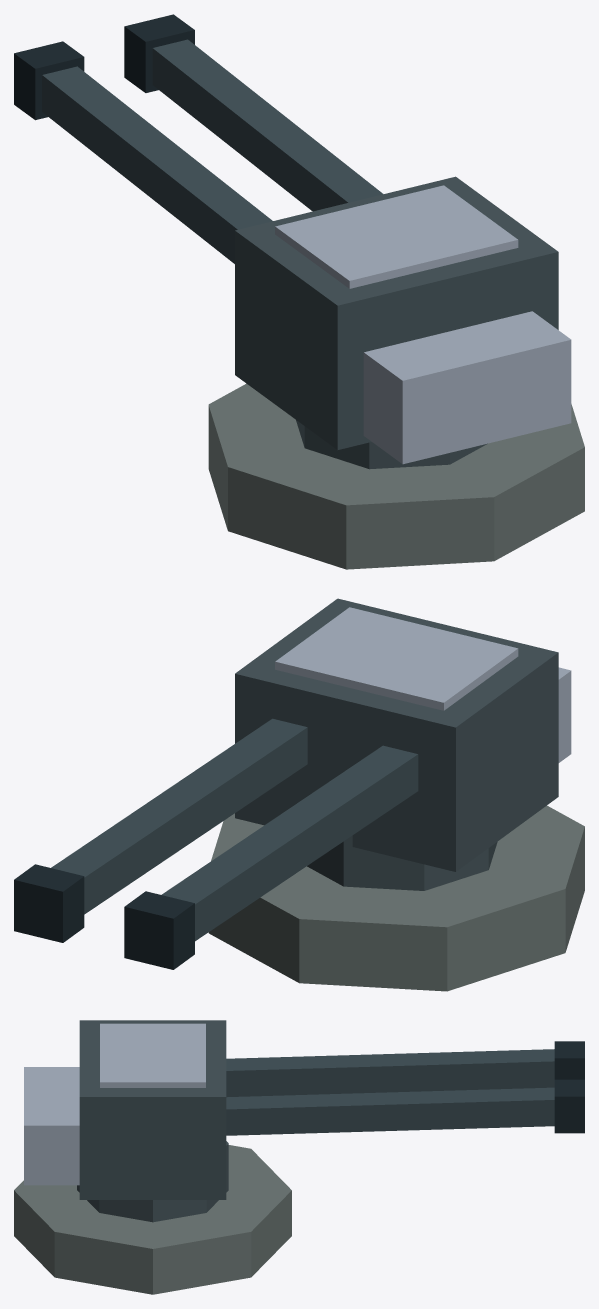
Rendered from cannon-long.glb.
The picture shows the model from 3 angles, top to bottom: view 1: azimuth 30°, elevation 25°; view 2: azimuth 150°, elevation 25°; view 3: azimuth 270°, elevation 25°; orthographic projection. The views are drawn at different scales.
Parts seen in each view (by area): view 1: cannon-long; view 2: cannon-long; view 3: cannon-long.
Boxes of the visible parts, x1,y1,x2,y2 form: cannon-long: (14, 14, 584, 569); cannon-long: (14, 598, 584, 991); cannon-long: (14, 1020, 584, 1294).
Size of the model in its own units: 1.1 by 0.8 by 2.26.
